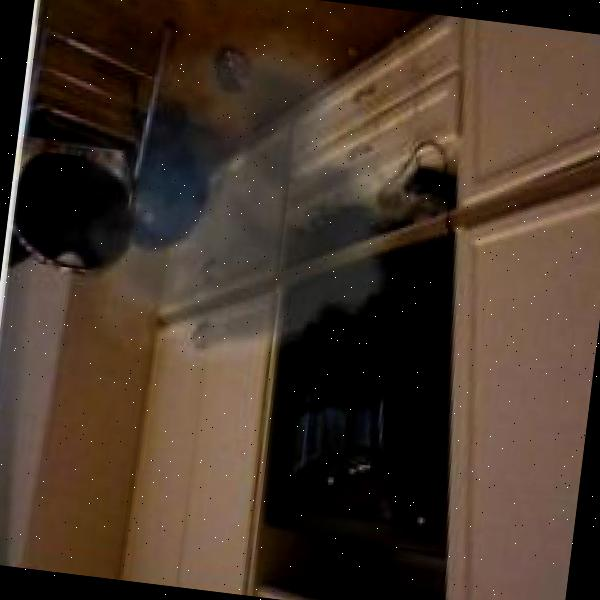smoke: (29, 3, 457, 405)
